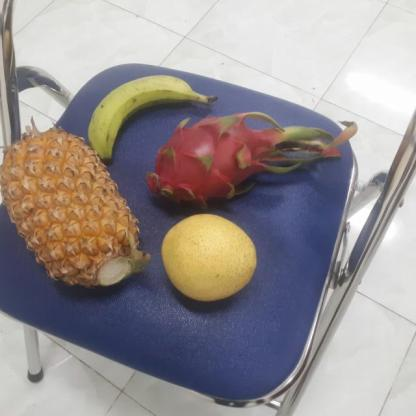banana: (84, 75, 203, 160)
pear: (157, 216, 257, 304)
pineapple: (0, 131, 146, 289)
pitaya: (142, 112, 278, 212)
